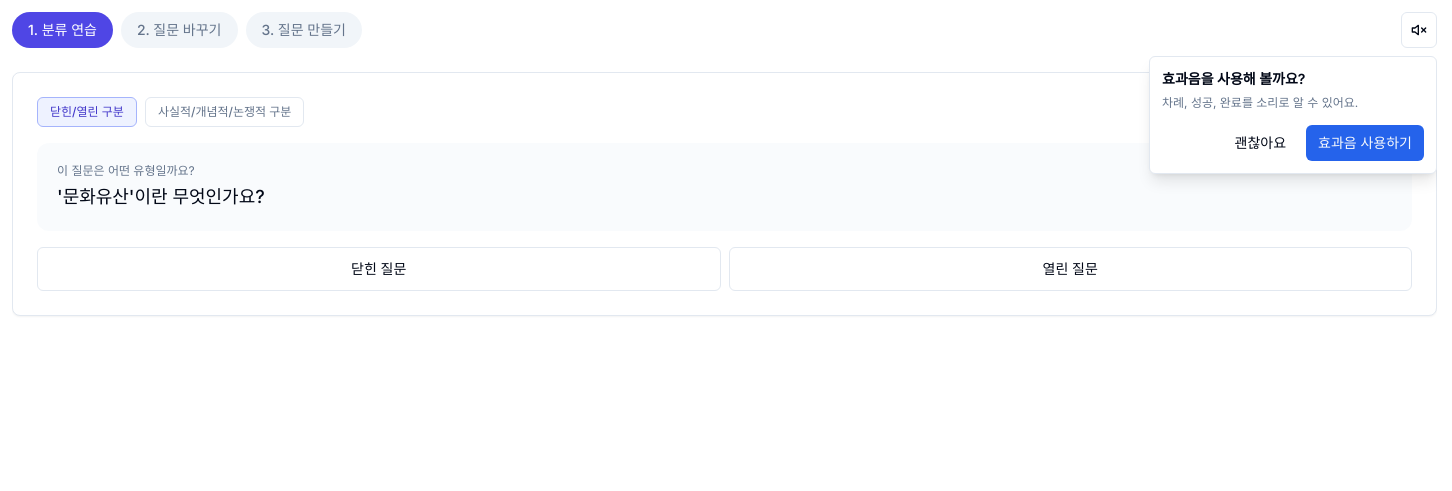
Scenario: 연습 질문 전달 › 분류 연습 제출이 실패하면 답을 확정하지 않고 같은 선택을 다시 보낼 수 있다
This screenshot has width=1452, height=491.
Click the button "닫힌 질문". click: (379, 269)
box: [37, 247, 720, 291]
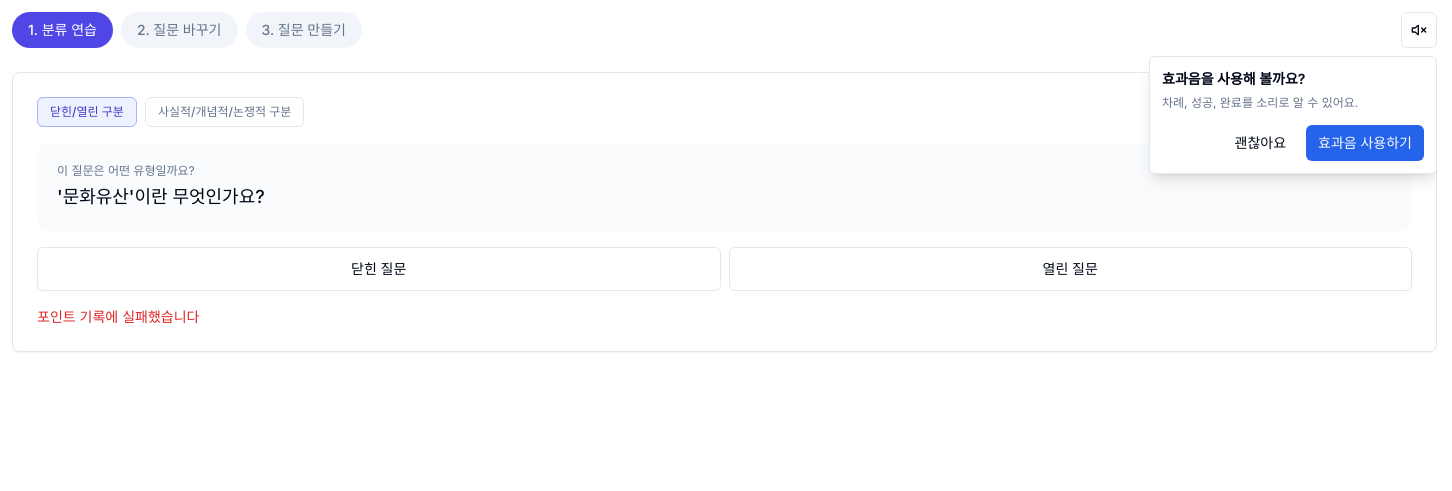
Expected: the text "정답이에요" is not shown
Now the text "포인트 기록에 실패했습니다" is shown, box [37, 308, 199, 325]
Click the button "닫힌 질문". click: (379, 269)
box: [37, 247, 720, 291]
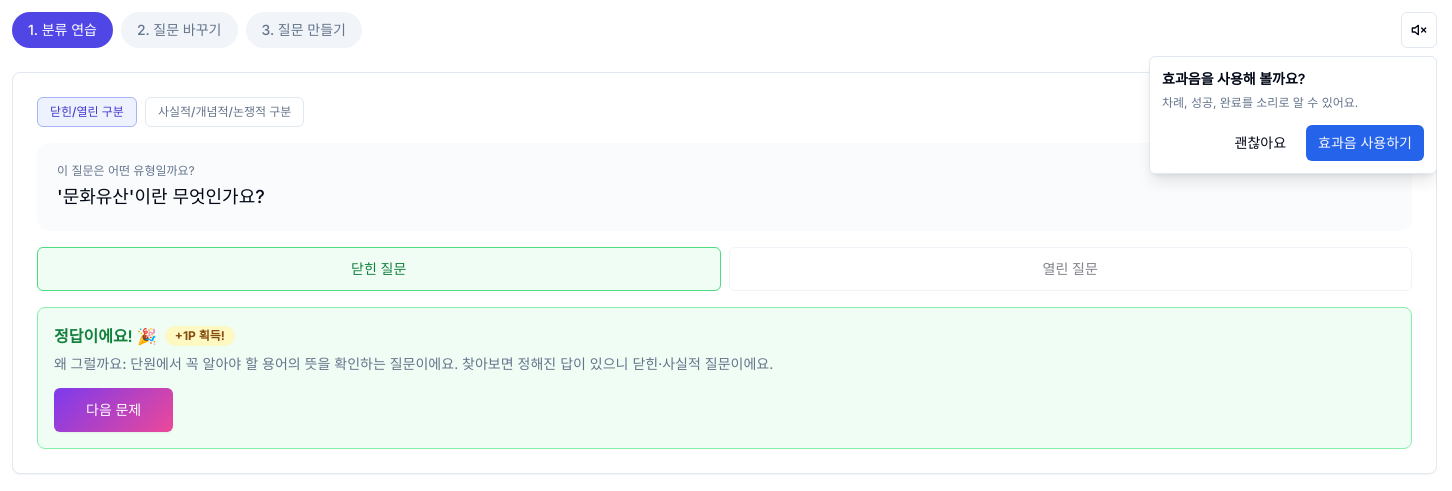
Now the text "정답이에요! 🎉 +1P 획득!" is shown, box [54, 326, 235, 346]
Now the text "포인트 기록에 실패했습니다" is gone
